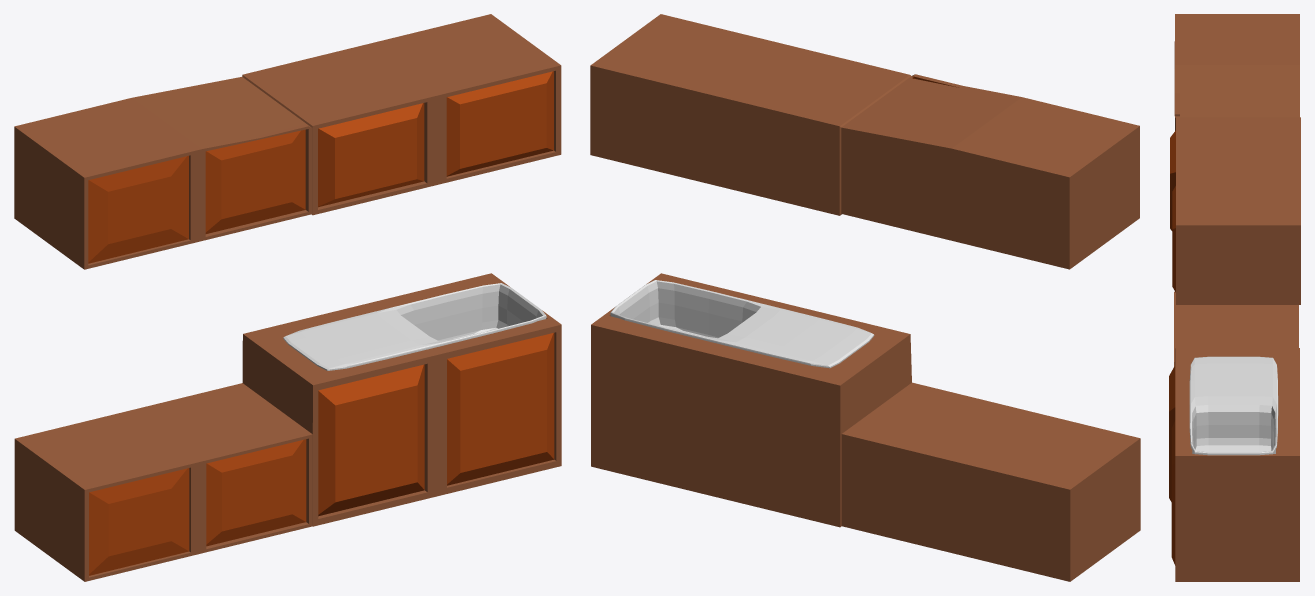
File: Rak Dapur.fbx
The picture shows the model from 3 angles, left to right: view 1: azimuth 30°, elevation 25°; view 2: azimuth 150°, elevation 25°; view 3: azimuth 270°, elevation 25°; orthographic projection. The views are drawn at different scales.
Parts seen in each view (by area): view 1: Cube.031, Cube.032, Cube.040; view 2: Cube.031, Cube.032, Cube.040; view 3: Cube.032, Cube.031, Cube.040.
Part boxes in pixels (<box>): Cube.031: <box>14,273,561,581</box>; Cube.032: <box>14,14,561,269</box>; Cube.040: <box>283,283,546,370</box>; Cube.031: <box>591,273,1140,581</box>; Cube.032: <box>590,14,1139,269</box>; Cube.040: <box>610,280,874,368</box>; Cube.032: <box>1170,14,1300,304</box>; Cube.031: <box>1169,291,1299,581</box>; Cube.040: <box>1189,356,1278,455</box>.
Size of the model in its own units: 384 by 311 by 103.
